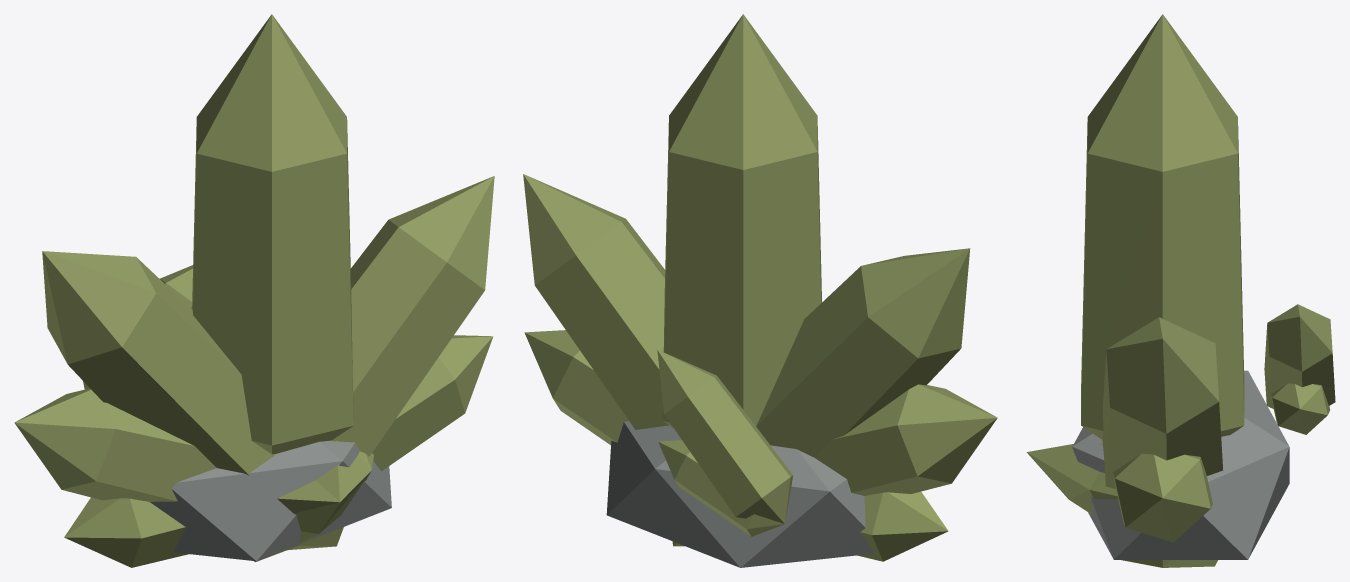
The model's file is v2_uranium_vein.glb.
3 views of the same model, side by side, from view 1: azimuth 30°, elevation 25°; view 2: azimuth 150°, elevation 25°; view 3: azimuth 270°, elevation 25° (orthographic).
Parts seen in each view (by area): view 1: Icosphere; view 2: Icosphere; view 3: Icosphere.
Part boxes in pixels (bbox=[...]): Icosphere: bbox=[14, 14, 494, 567]; Icosphere: bbox=[523, 14, 997, 567]; Icosphere: bbox=[1026, 14, 1335, 567].
Bounding box in the file's own units: 1.22 × 1.33 × 0.6796.
